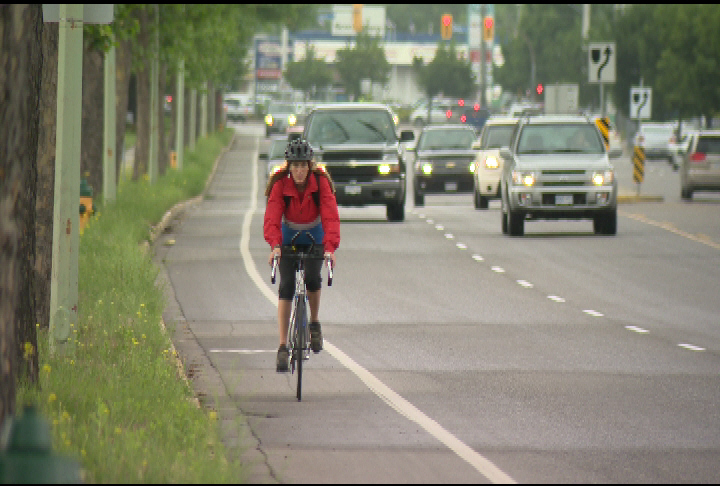helmet: (284, 138, 315, 185)
